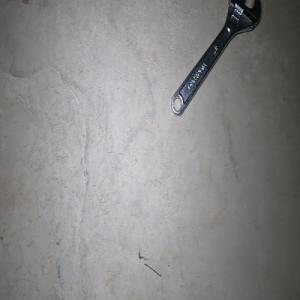Wrench: (171, 0, 261, 115)
